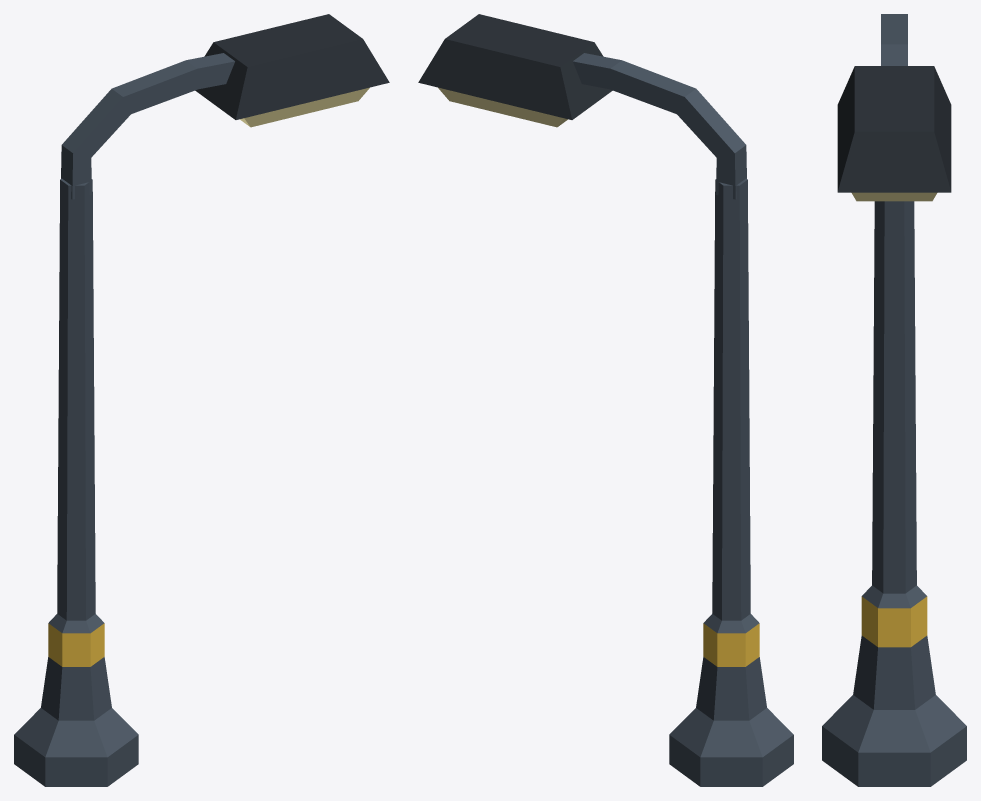
File: lamp.glb
3 renders of one model, left to right at view 1: azimuth 30°, elevation 25°; view 2: azimuth 150°, elevation 25°; view 3: azimuth 270°, elevation 25°, orthographic. The views are drawn at different scales.
Visible parts, largest first — view 1: lamp; view 2: lamp; view 3: lamp.
Part boxes in pixels (x1=…): lamp: x1=14, y1=14, x2=389, y2=786; lamp: x1=418, y1=14, x2=793, y2=786; lamp: x1=822, y1=14, x2=966, y2=786.
Size of the model in its own units: 0.2614 by 0.5 by 0.084.
